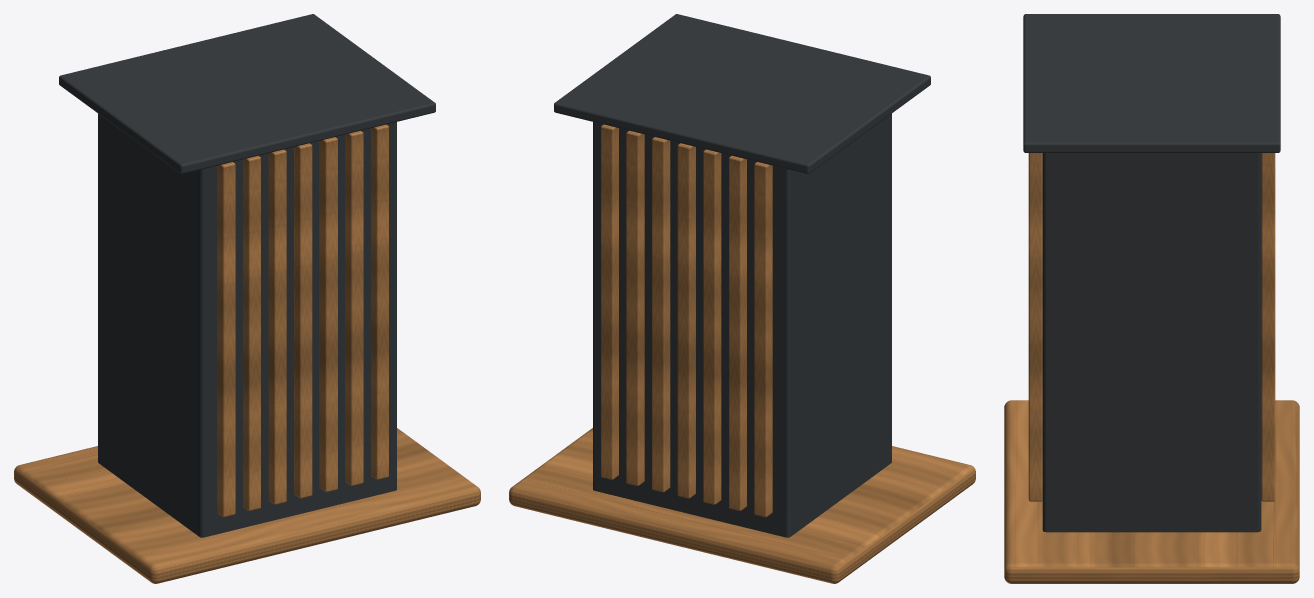
The model's file is slat-pedestal.glb.
The picture shows the model from 3 angles, left to right: view 1: azimuth 30°, elevation 25°; view 2: azimuth 150°, elevation 25°; view 3: azimuth 270°, elevation 25°; orthographic projection. The views are drawn at different scales.
Visible parts, largest first — view 1: Pedestal_Core, Pedestal_TopPlate, Base_Plinth, Slat_Front_03, Slat_Front_04, Slat_Front_01, Slat_Front_05, Slat_Front_06, Slat_Front_02, Slat_Front_07; view 2: Pedestal_Core, Pedestal_TopPlate, Base_Plinth, Slat_Back_03, Slat_Back_04, Slat_Back_01, Slat_Back_05, Slat_Back_06, Slat_Back_02, Slat_Back_07; view 3: Pedestal_Core, Pedestal_TopPlate, Base_Plinth, Slat_Front_07, Slat_Back_07.
Boxes of the visible parts, left/top/right/bottom form: Pedestal_Core: left=98, top=113, right=396, bottom=537; Pedestal_TopPlate: left=59, top=14, right=435, bottom=174; Base_Plinth: left=14, top=428, right=480, bottom=583; Slat_Front_03: left=268, top=149, right=286, bottom=504; Slat_Front_04: left=294, top=143, right=312, bottom=498; Slat_Front_01: left=217, top=162, right=235, bottom=517; Slat_Front_05: left=319, top=137, right=337, bottom=492; Slat_Front_06: left=345, top=130, right=363, bottom=485; Slat_Front_02: left=243, top=155, right=260, bottom=510; Slat_Front_07: left=371, top=124, right=388, bottom=479; Pedestal_Core: left=593, top=113, right=891, bottom=537; Pedestal_TopPlate: left=554, top=14, right=930, bottom=174; Base_Plinth: left=509, top=428, right=975, bottom=583; Slat_Back_03: left=703, top=149, right=721, bottom=504; Slat_Back_04: left=677, top=143, right=695, bottom=498; Slat_Back_01: left=754, top=162, right=772, bottom=517; Slat_Back_05: left=652, top=137, right=670, bottom=492; Slat_Back_06: left=626, top=130, right=644, bottom=485; Slat_Back_02: left=729, top=155, right=746, bottom=510; Slat_Back_07: left=601, top=124, right=618, bottom=479; Pedestal_Core: left=1042, top=153, right=1261, bottom=532; Pedestal_TopPlate: left=1023, top=14, right=1280, bottom=152; Base_Plinth: left=1004, top=400, right=1299, bottom=583; Slat_Front_07: left=1028, top=153, right=1042, bottom=501; Slat_Back_07: left=1261, top=153, right=1275, bottom=501.
Size of the model in its own units: 0.62 by 0.728 by 0.46.
Materials: 3 (2 with a texture image).
